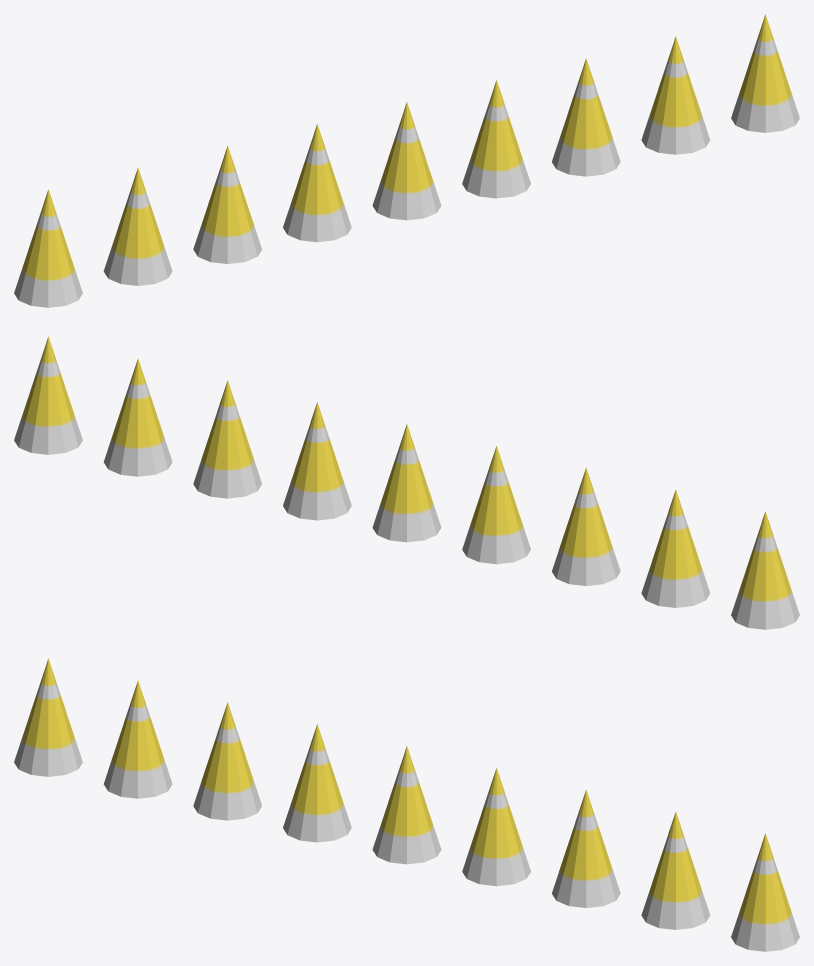
File: ConesObstacle.fbx
3 views of the same model, one above another, from view 1: azimuth 30°, elevation 25°; view 2: azimuth 150°, elevation 25°; view 3: azimuth 330°, elevation 25° (orthographic).
Visible parts, largest first — view 1: Cones; view 2: Cones; view 3: Cones.
Boxes of the visible parts, x1,y1,x2,y2 form: Cones: [14, 14, 799, 307]; Cones: [14, 336, 799, 629]; Cones: [14, 658, 799, 951].
Bounding box in the file's own units: 390 × 50 × 30.
